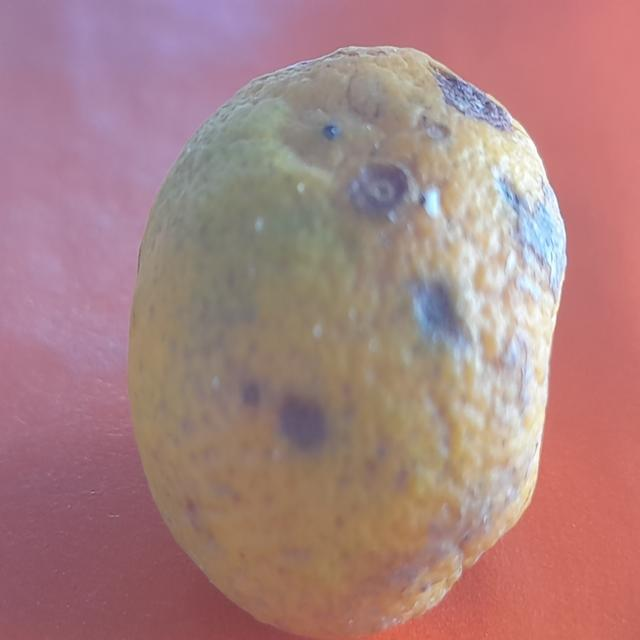black spot: (118, 30, 576, 635)
